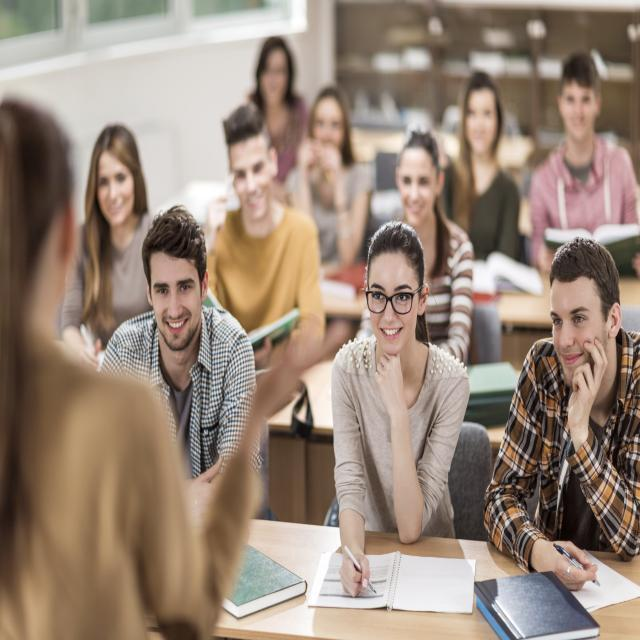Looking forward: (548, 276, 607, 388), (366, 252, 420, 356), (148, 248, 200, 350), (228, 129, 280, 221), (394, 144, 438, 226), (94, 147, 136, 225)
